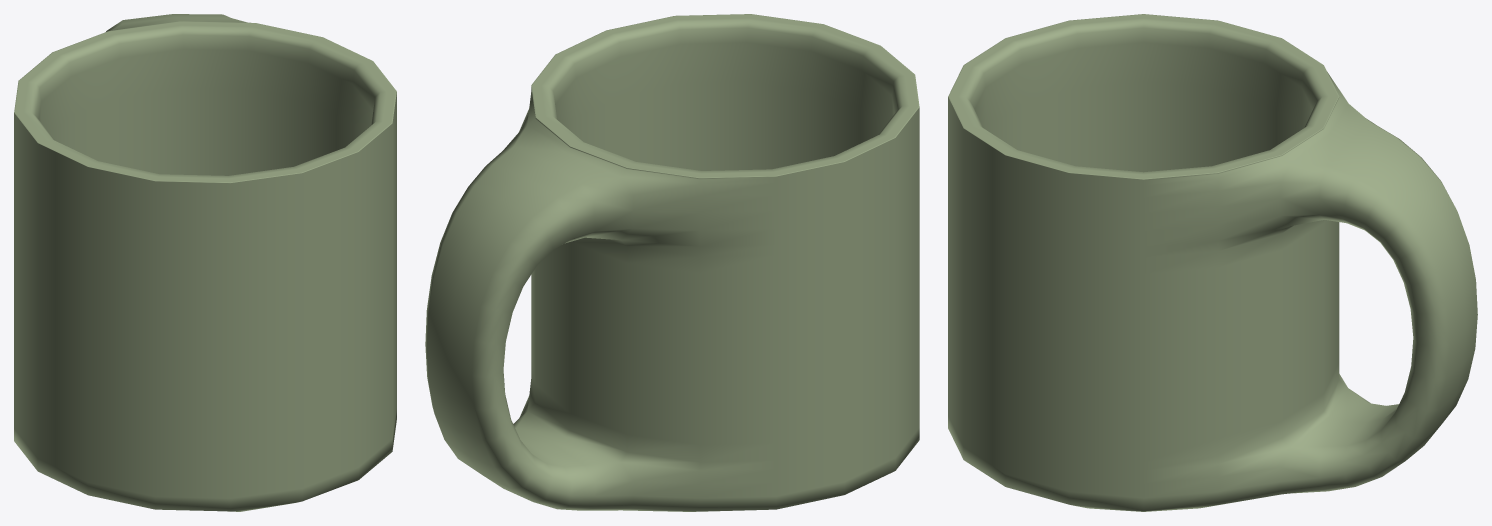
The model's file is TAZA.fbx.
3 views of the same model, side by side, from view 1: azimuth 30°, elevation 25°; view 2: azimuth 150°, elevation 25°; view 3: azimuth 270°, elevation 25° (orthographic).
Parts seen in each view (by area): view 1: taza; view 2: taza; view 3: taza.
Part boxes in pixels (left/top/right/bottom): taza: left=14, top=14, right=396, bottom=511; taza: left=425, top=14, right=919, bottom=511; taza: left=948, top=14, right=1477, bottom=511.
Bounding box in the file's own units: 9.78 × 9.5 × 13.25.
